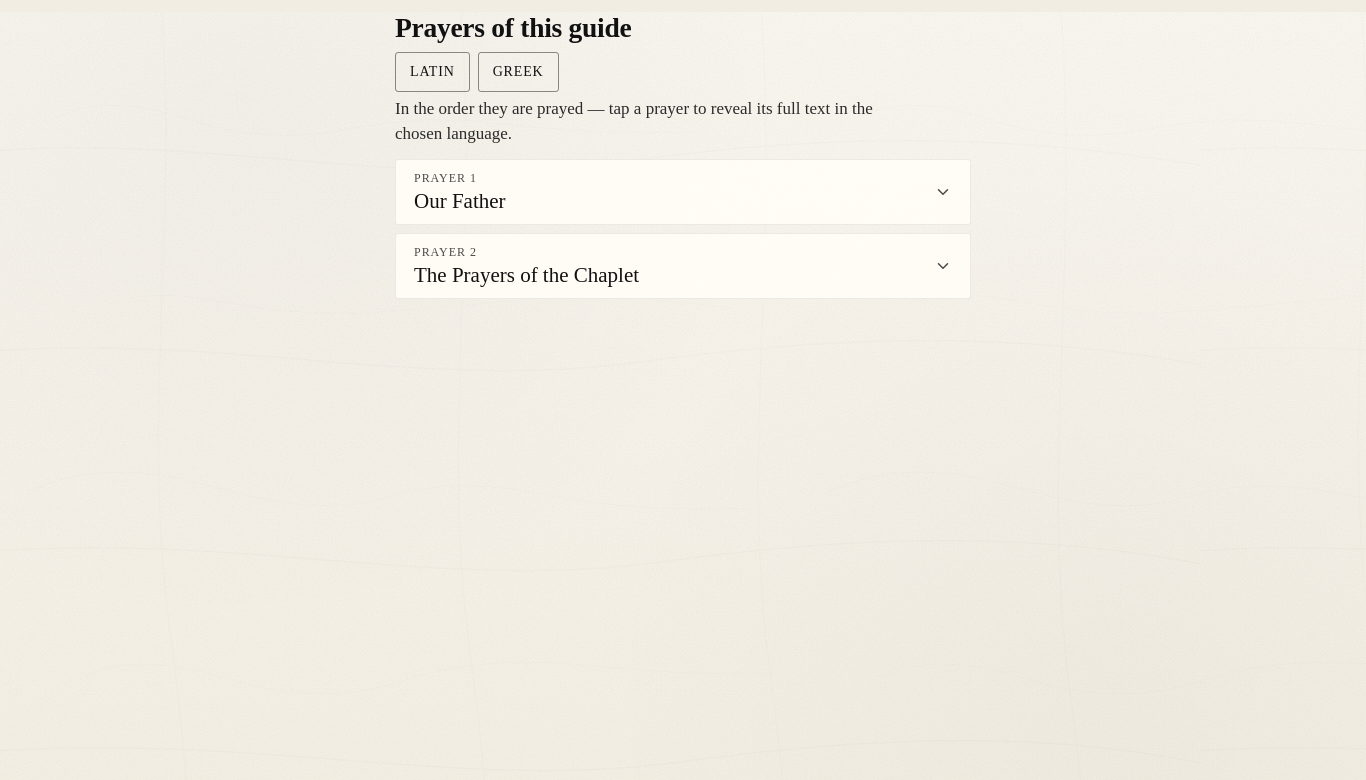
GuidePrayers › offers Latin and Greek chips — never an English one — and switches every dropdown
Check: the button "Greek" is shown, box [478, 52, 558, 92]
Click the button "Prayer 1 Our Father".
click(445, 178)  # box [396, 160, 970, 224]
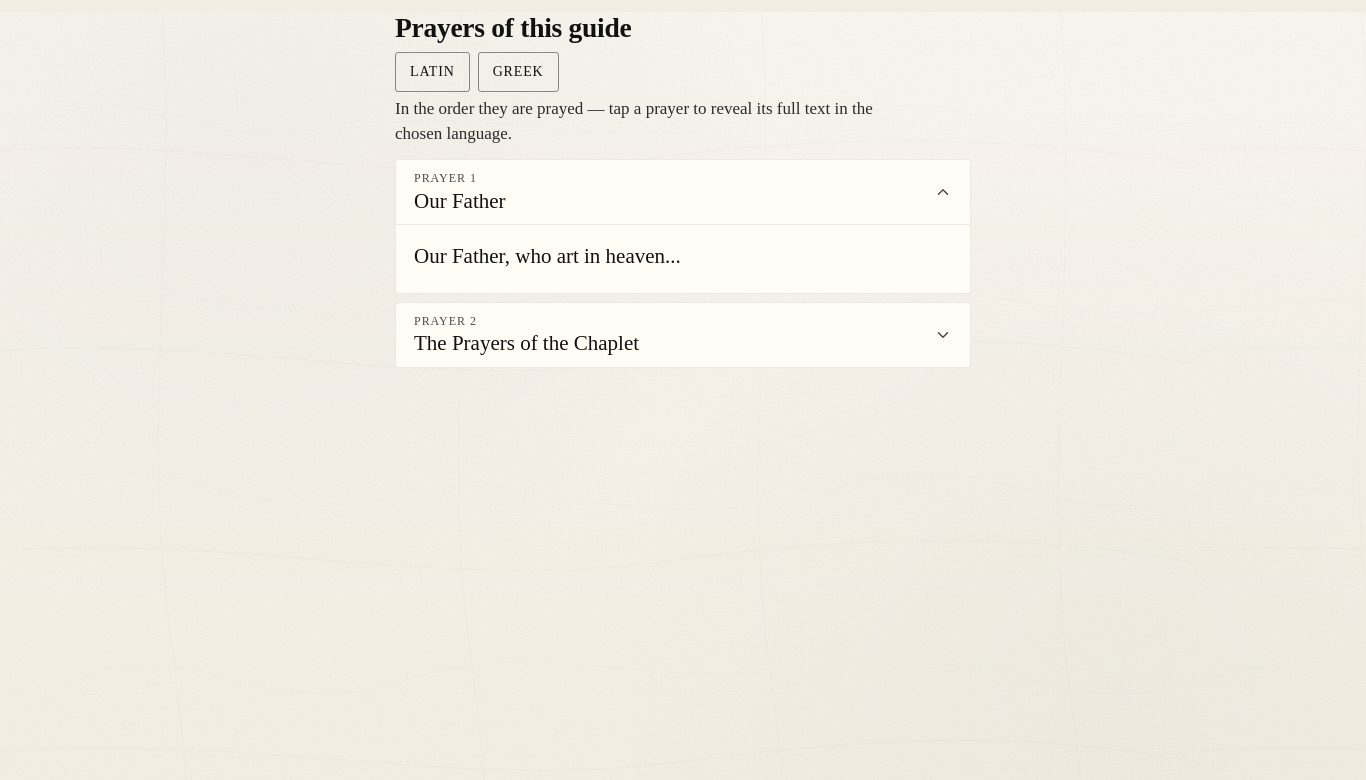
Click the button "Prayer 2 The Prayers of the Chaplet".
click(445, 321)  # box [396, 303, 970, 367]
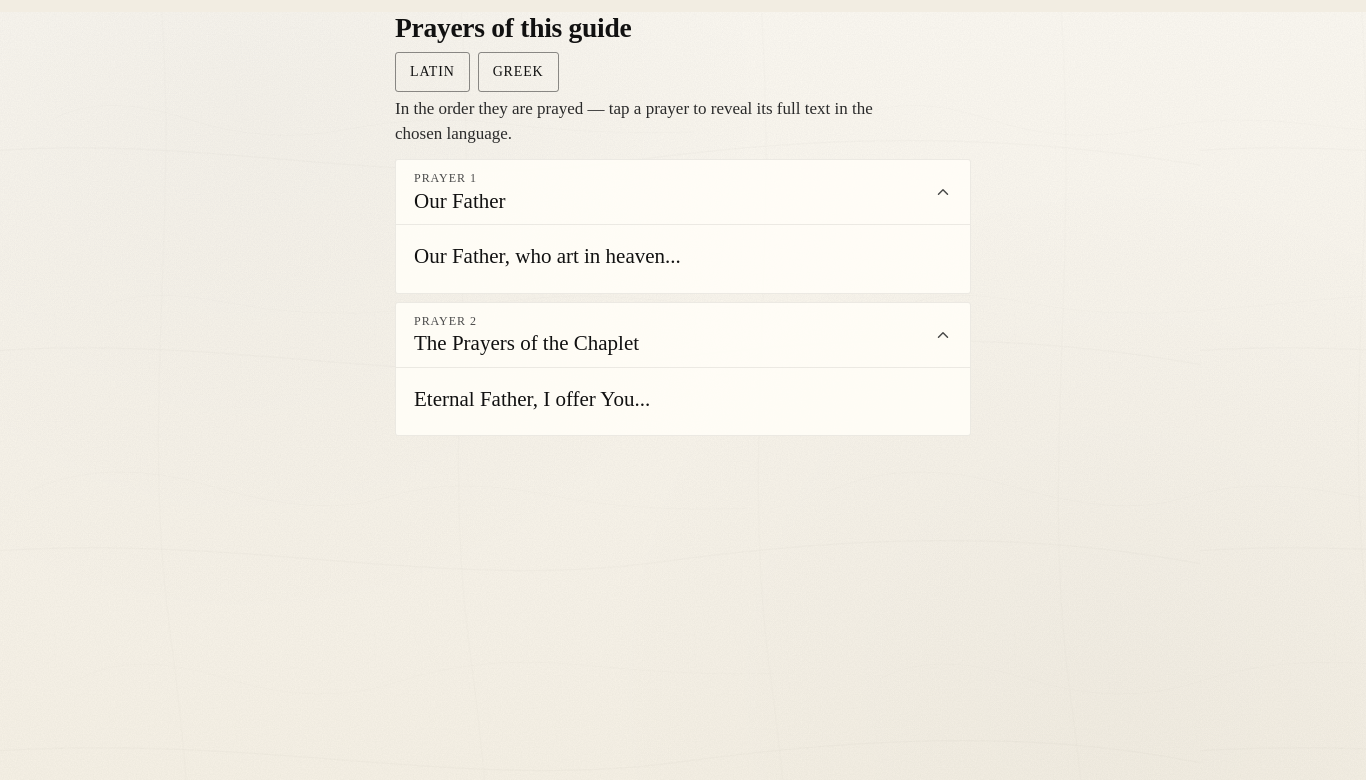
Check: the text "Our Father, who art in heaven..." is shown, box [414, 244, 681, 268]
Click the button "Latin".
click(432, 72)  # box [395, 52, 470, 92]
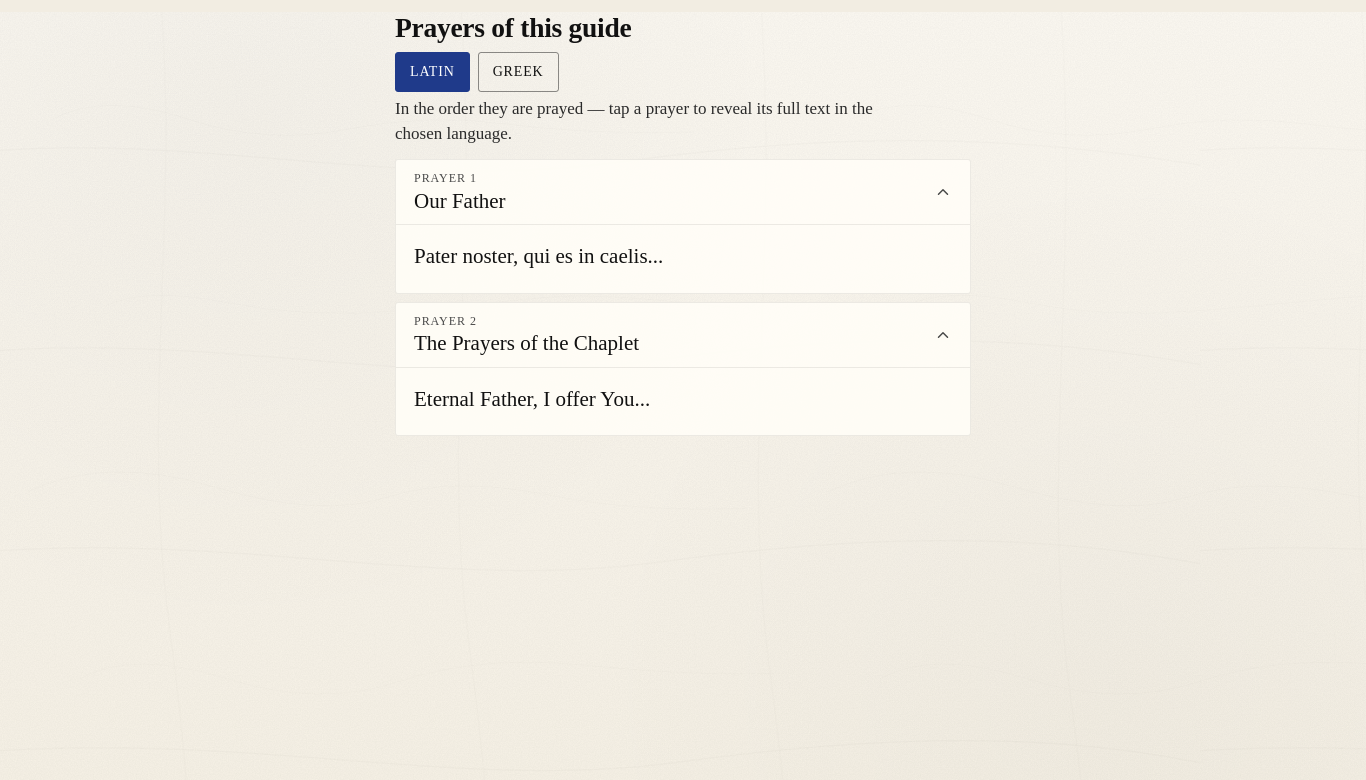
Check: the text "Eternal Father, I offer You..." is shown, box [414, 387, 650, 411]
Click the button "Latin".
click(432, 72)  # box [395, 52, 470, 92]
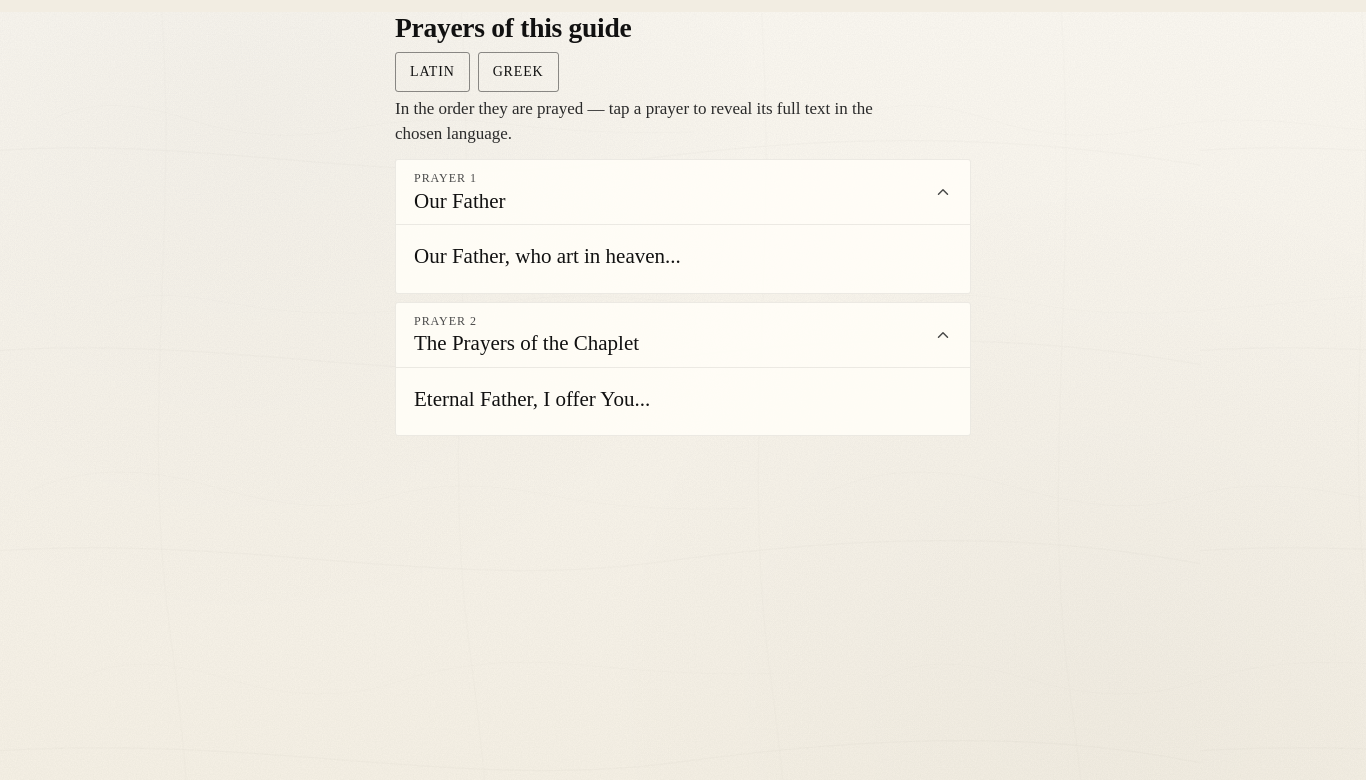
Check: the text "Our Father, who art in heaven..." is shown, box [414, 244, 681, 268]
